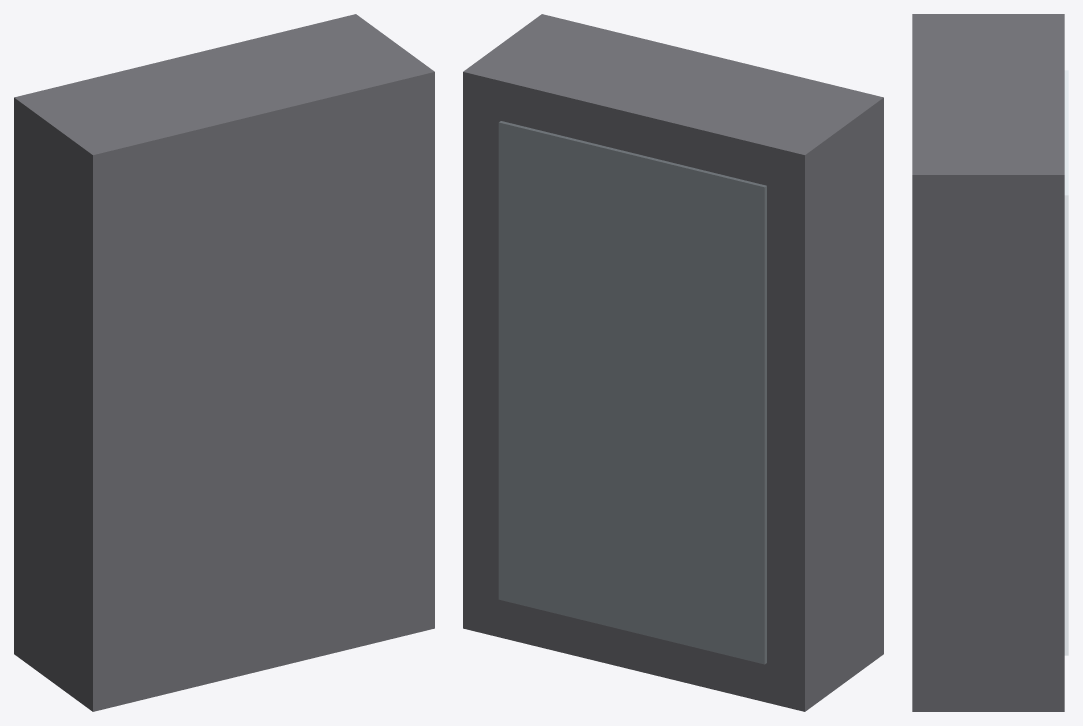
The model's file is corridor_fire_extinguisher_cab.glb.
3 renders of one model, left to right at view 1: azimuth 30°, elevation 25°; view 2: azimuth 150°, elevation 25°; view 3: azimuth 270°, elevation 25°, orthographic. The views are drawn at different scales.
Parts seen in each view (by area): view 1: corridor_fire_extinguisher_cab; view 2: corridor_fire_extinguisher_cab; view 3: corridor_fire_extinguisher_cab.
Part boxes in pixels (bbox=[...]): corridor_fire_extinguisher_cab: bbox=[14, 14, 434, 711]; corridor_fire_extinguisher_cab: bbox=[463, 14, 883, 711]; corridor_fire_extinguisher_cab: bbox=[912, 14, 1068, 711].
Size of what is drawn, in the model's own units: 0.45 by 0.7 by 0.185.
